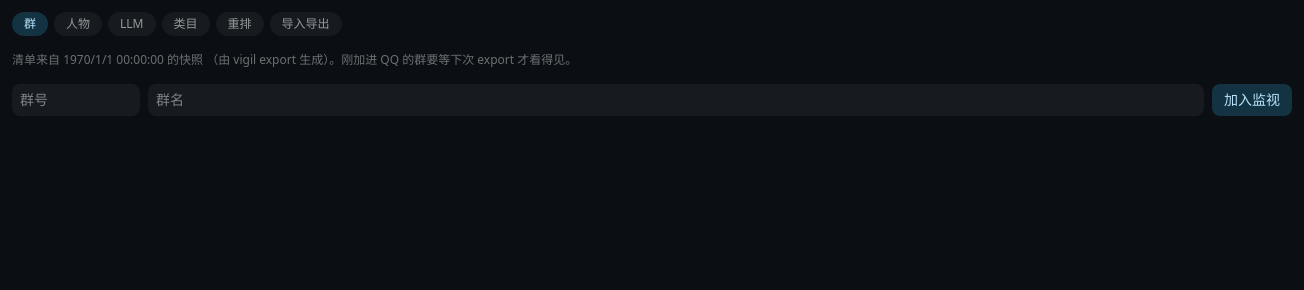
Test: 撤销类目改动失败时必须有话说（未处理的 rejection 不算话）
The width and height of the screenshot is (1304, 290).
Click the button "类目".
click(186, 24)  # box [162,12,210,36]
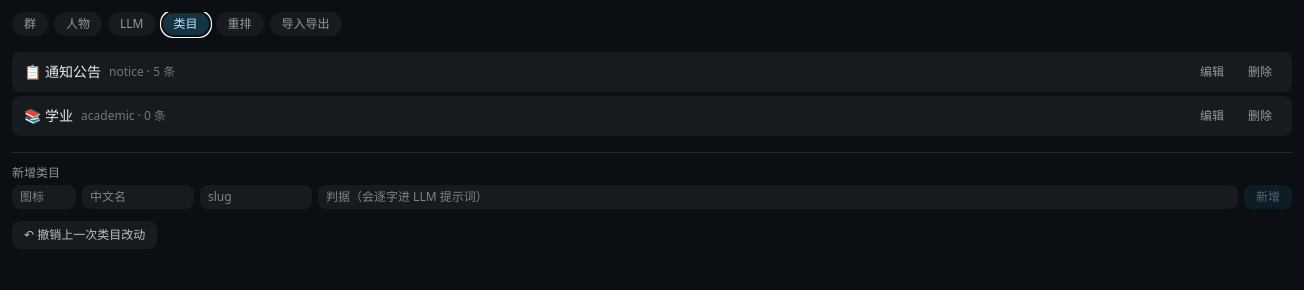
Now the text "📋 通知公告" is shown, box [24,62,101,82]
Click the button "↶ 撤销上一次类目改动".
click(85, 235)  # box [12,221,157,249]
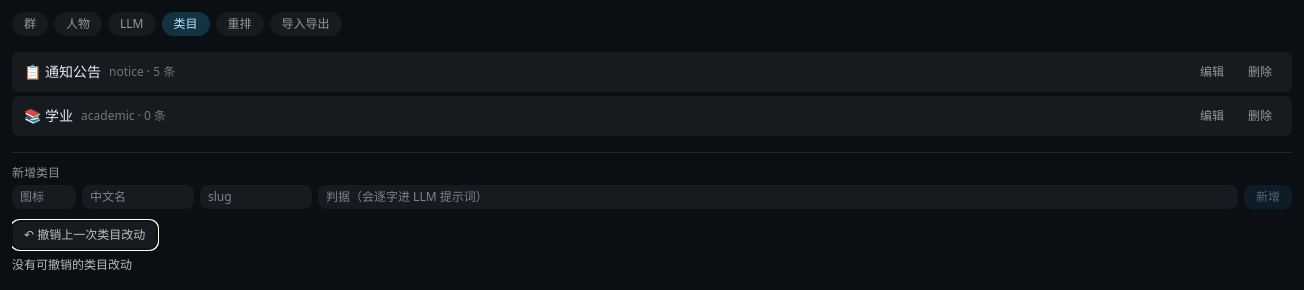
Now the text "没有可撤销的类目改动" is shown, box [12,256,132,273]
